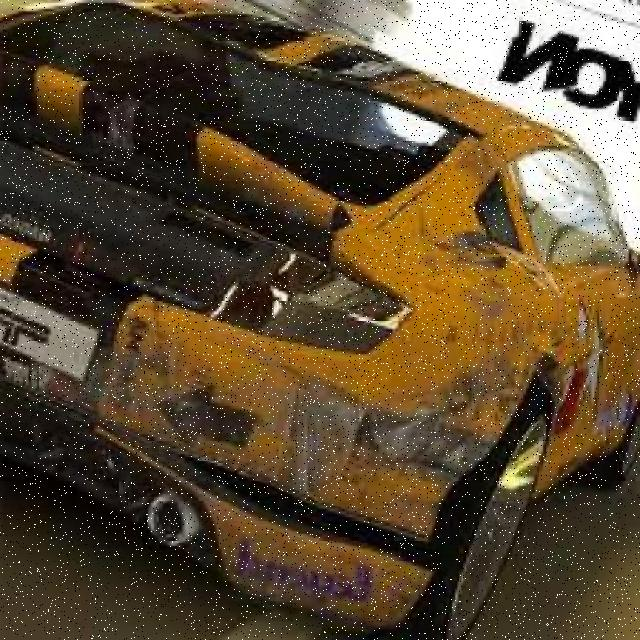damage: (263, 348, 524, 500), (149, 3, 379, 86), (32, 342, 205, 419), (403, 220, 510, 315), (86, 95, 156, 154)
